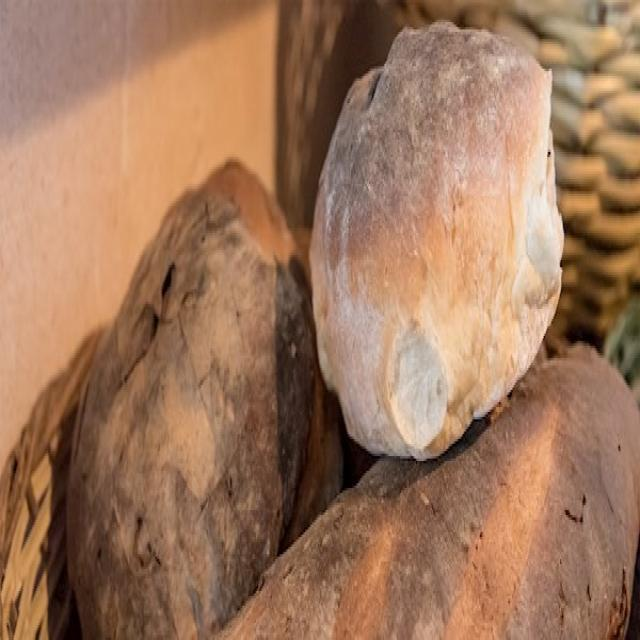Maltese-Bread: (67, 164, 341, 638), (310, 22, 563, 459)
